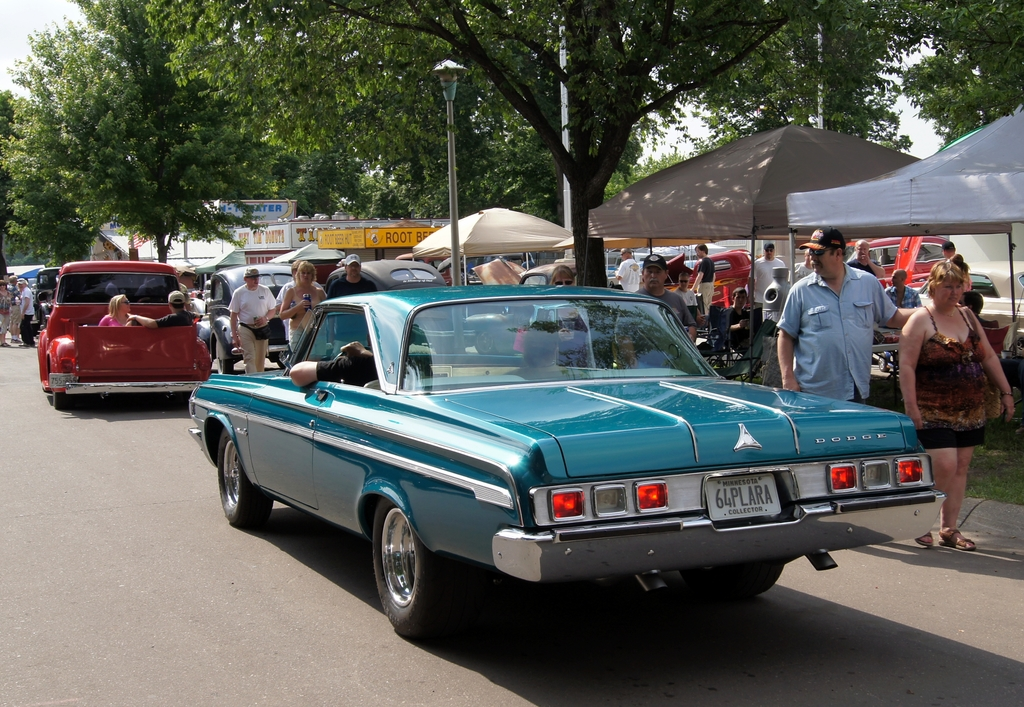Car: (19, 254, 947, 637), (608, 234, 1023, 348)
